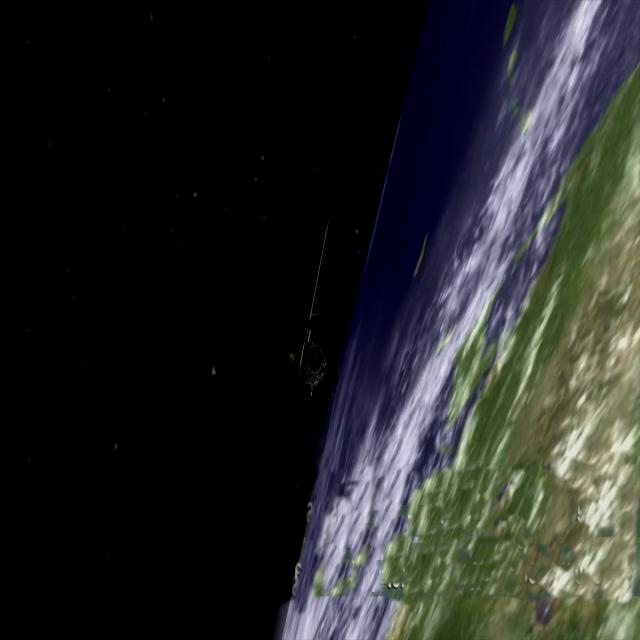satellite: (282, 68, 354, 414)
